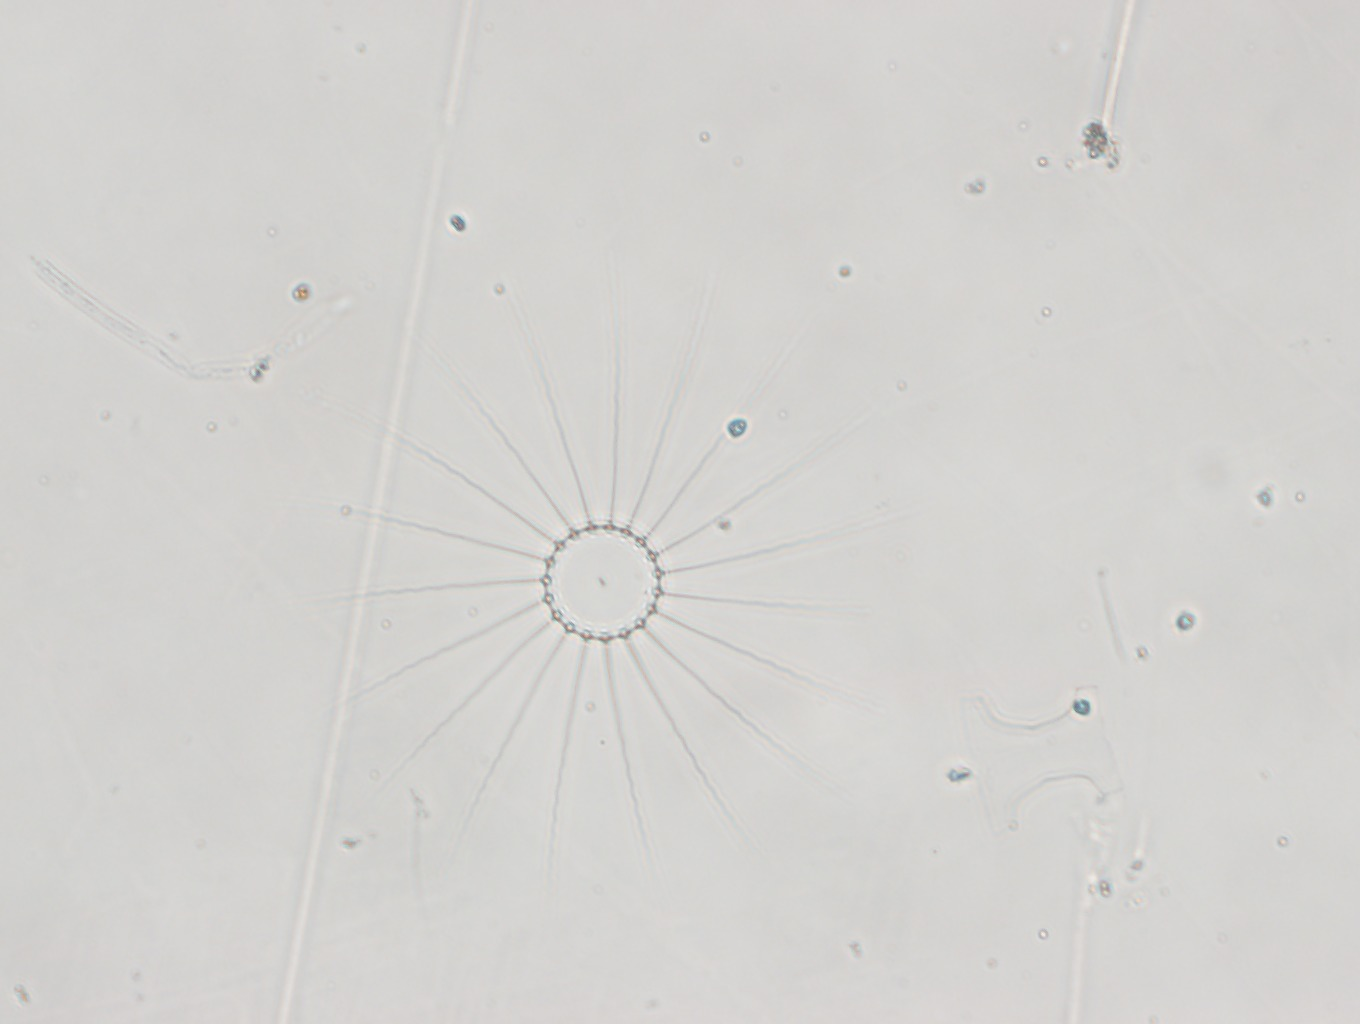bacteriastrum: (314, 261, 892, 856)
